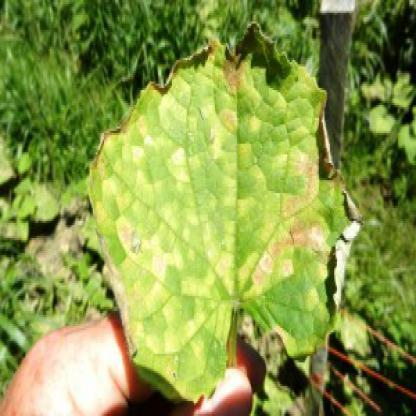Tomato leaf late blight: (72, 17, 372, 412)
